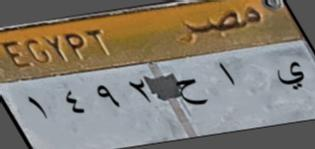1: (24, 93, 51, 128)
2: (128, 76, 151, 109)
4: (61, 85, 87, 120)
7aa: (174, 75, 209, 110)
9: (91, 81, 120, 112)
alif: (214, 59, 244, 95)
yaa: (271, 62, 308, 92)
